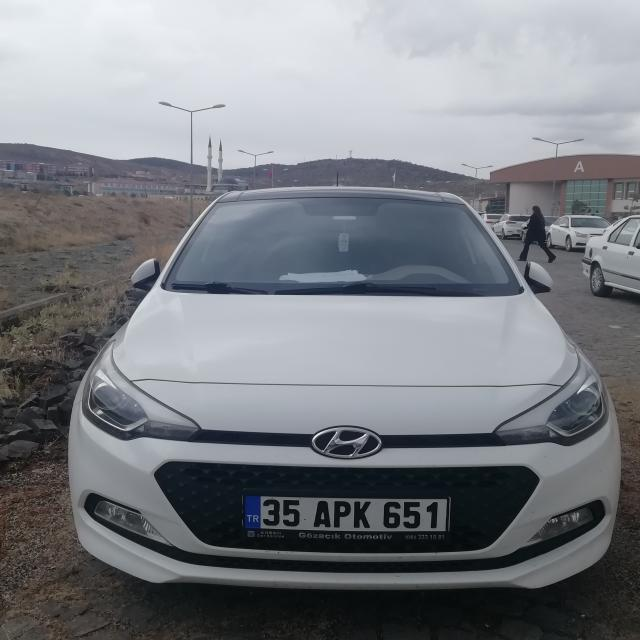license_plate: (240, 494, 452, 535)
